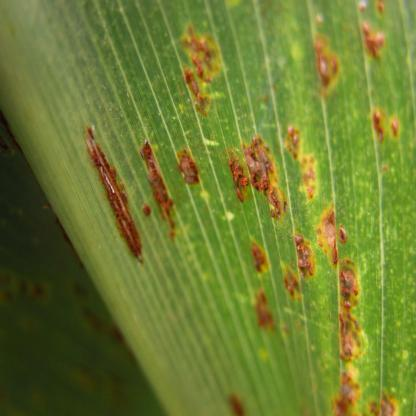Corn rust leaf: (4, 4, 415, 415)
